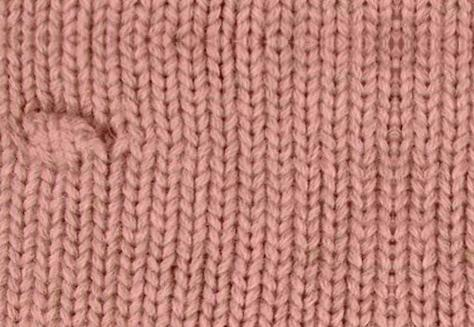knot: (15, 106, 114, 168)
